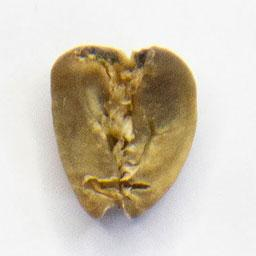defect: (48, 45, 201, 222)
